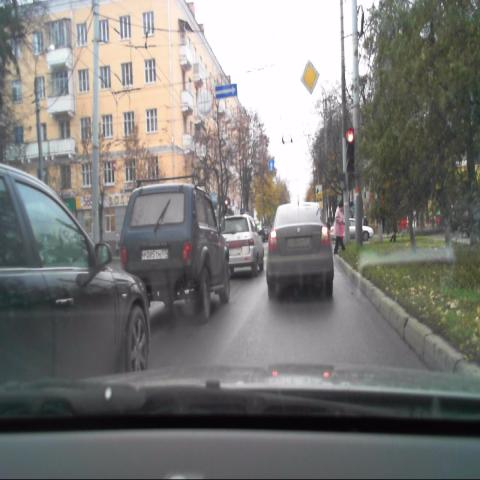5_7_1: (215, 83, 237, 97)
